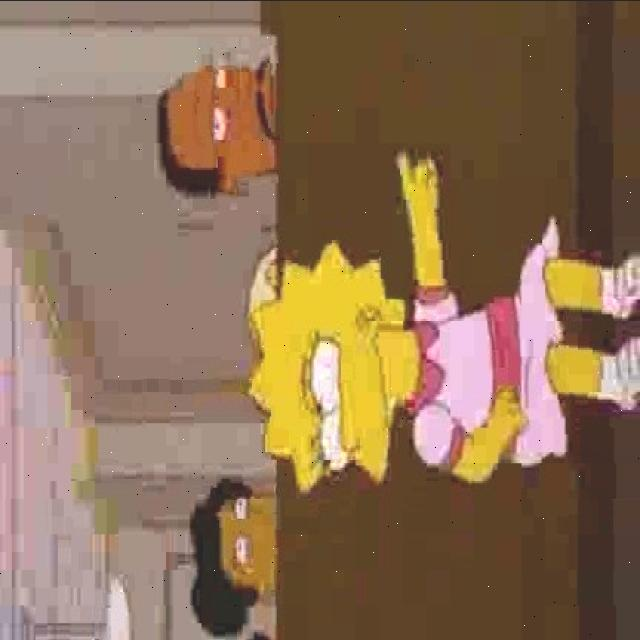Lisa Simpson: (246, 234, 422, 496)
